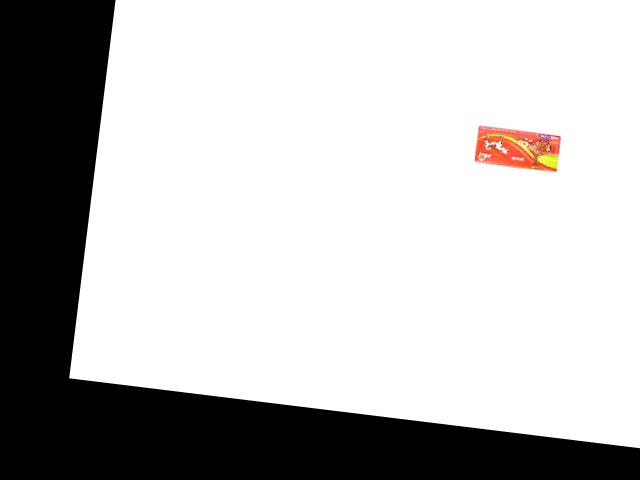chocolate: (468, 117, 563, 175)
